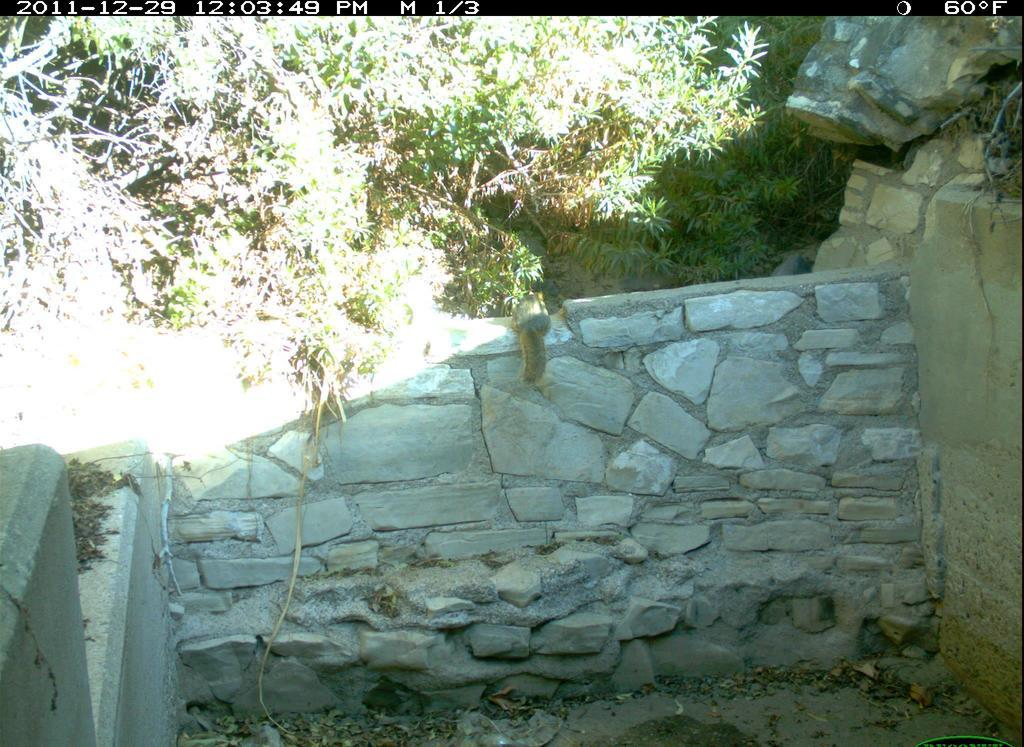squirrel: (501, 277, 557, 391)
